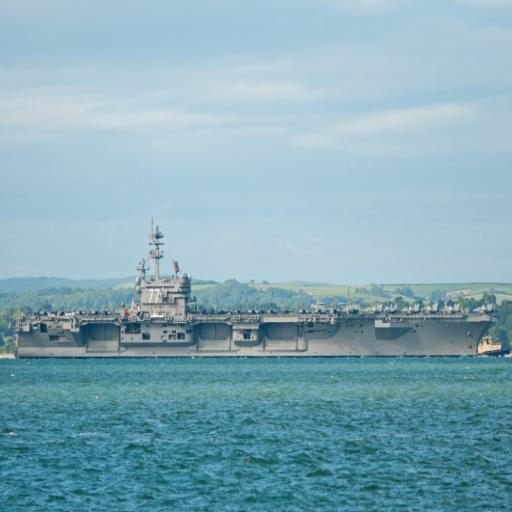Portanaves: (13, 203, 503, 362)
